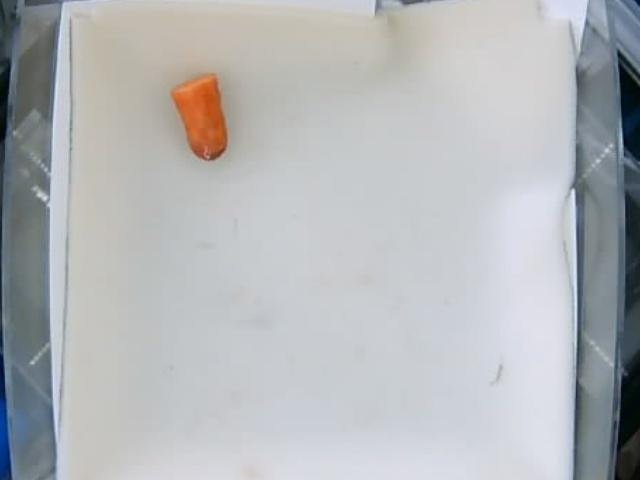Carrot: (170, 75, 227, 159)
